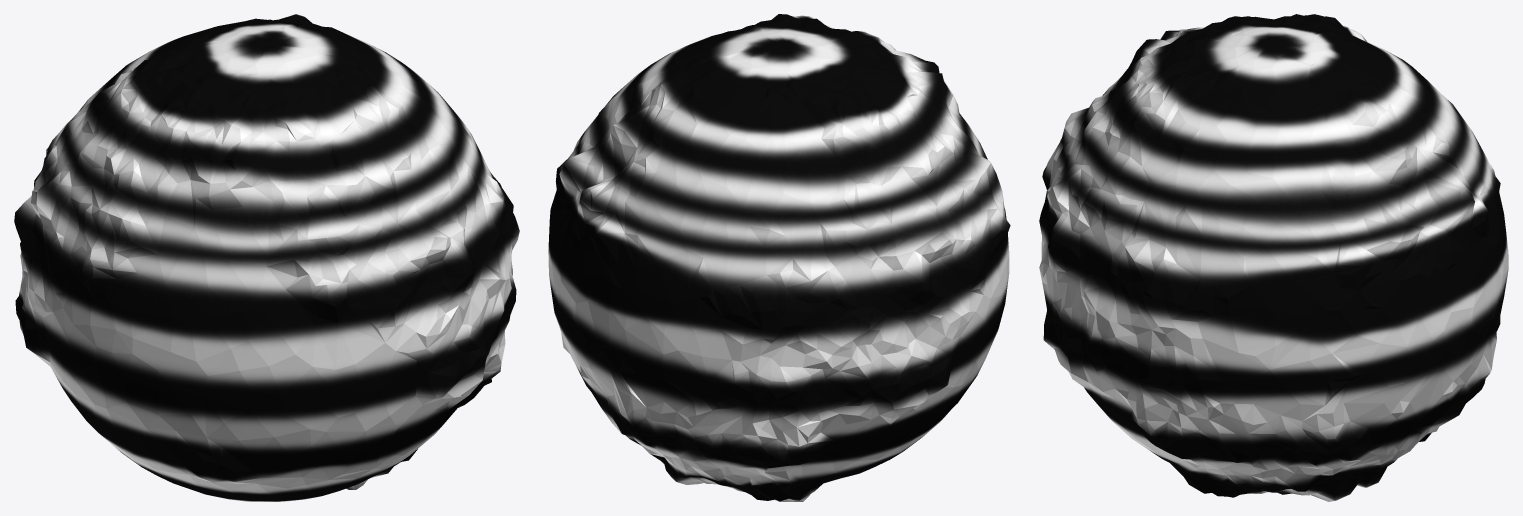
Rendered from SM_Env_Planet_10.fbx.
The picture shows the model from 3 angles, left to right: view 1: azimuth 30°, elevation 25°; view 2: azimuth 150°, elevation 25°; view 3: azimuth 270°, elevation 25°; orthographic projection. The views are drawn at different scales.
Parts seen in each view (by area): view 1: SM_Env_Planet_10_LOD0; view 2: SM_Env_Planet_10_LOD0; view 3: SM_Env_Planet_10_LOD0.
Boxes of the visible parts, x1=… form: SM_Env_Planet_10_LOD0: x1=14, y1=14, x2=519, y2=501; SM_Env_Planet_10_LOD0: x1=548, y1=14, x2=1010, y2=501; SM_Env_Planet_10_LOD0: x1=1039, y1=14, x2=1508, y2=501.
Size of the model in its own units: 47608 by 47585 by 47676.
1 material, 1 textured.
